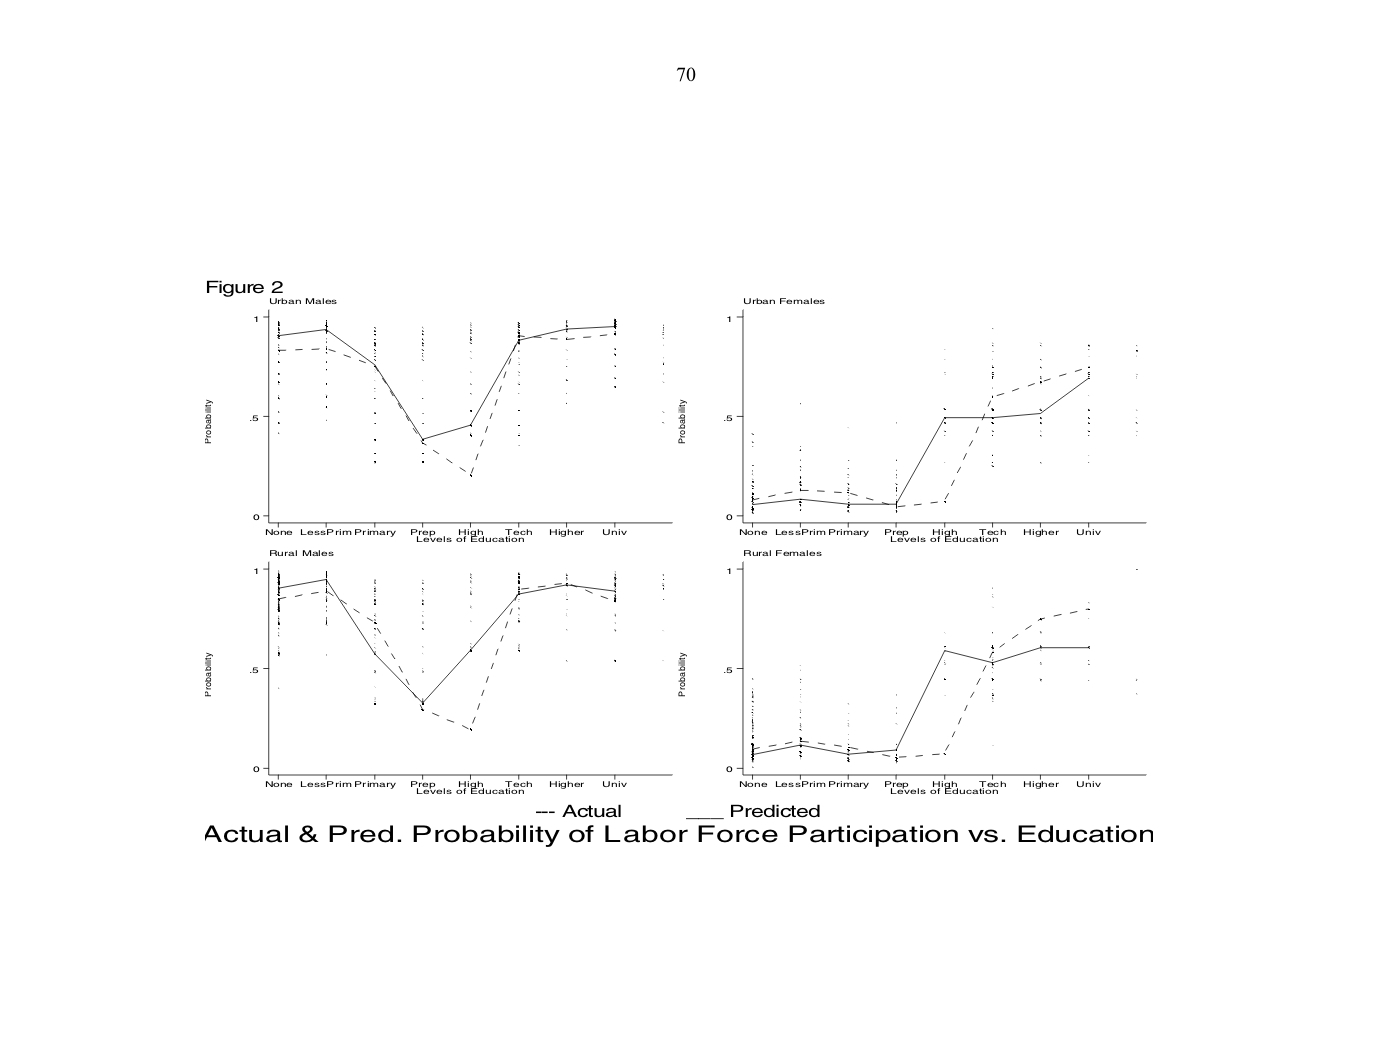figure: (250, 298, 672, 542), (724, 298, 1146, 542), (250, 561, 682, 794), (724, 561, 1146, 794)
